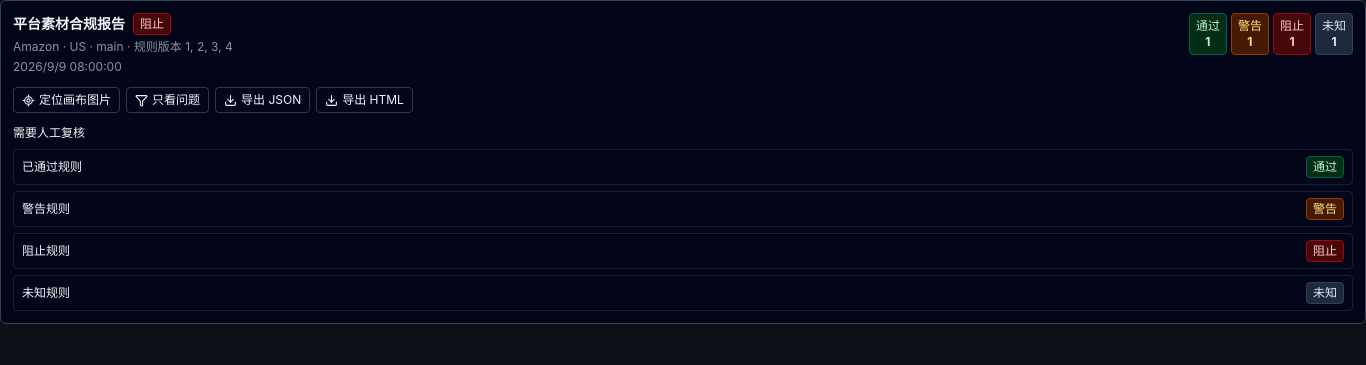
Test: PlatformComplianceReportCard › shows a non-sensitive download error and retries the failed format
Click the button "导出 JSON" at (263, 100), box [215,87,310,113]
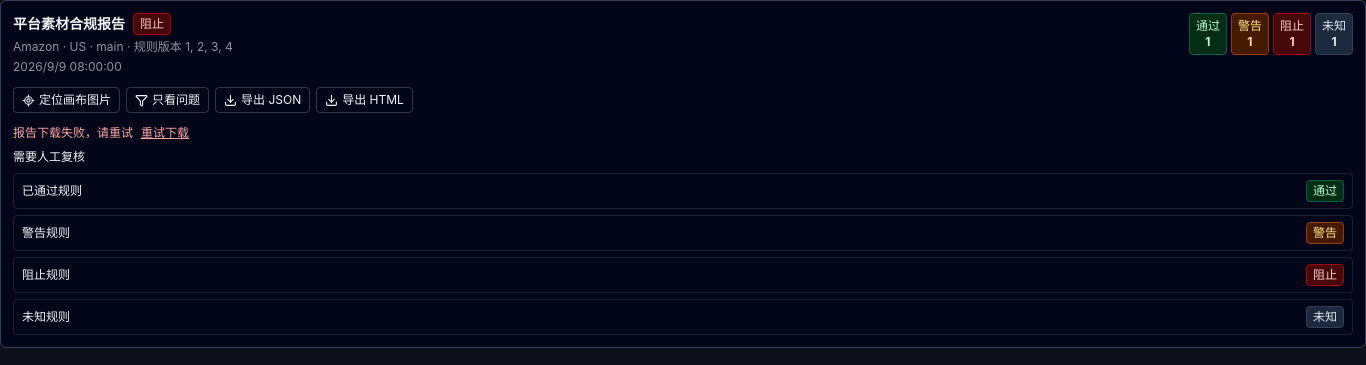
Now the message shows "报告下载失败，请重试", box [13,125,133,140]
Click the button "重试下载" at (165, 133), box [141,125,189,141]
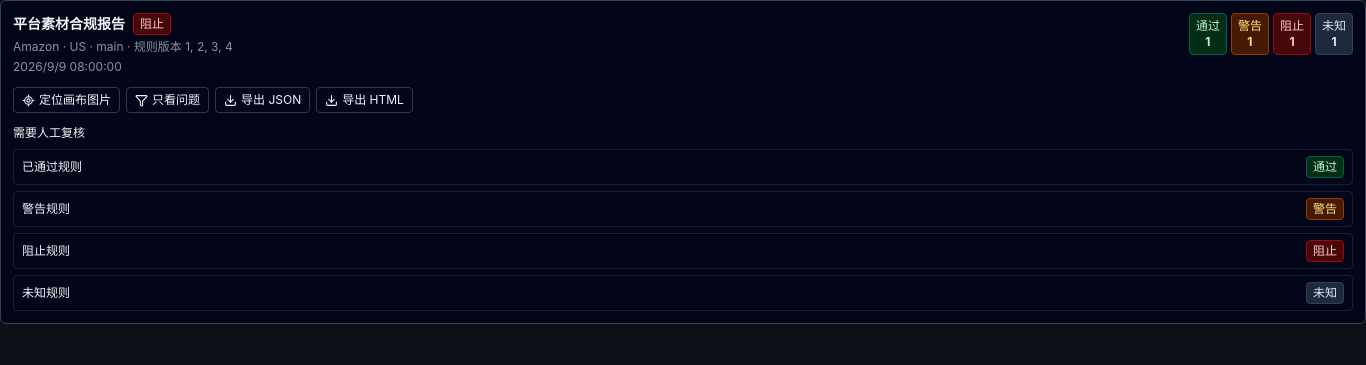
Now the message "报告下载失败，请重试 重试下载" is gone
